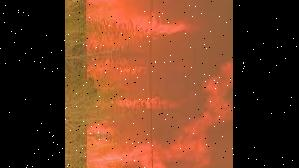fire: (83, 0, 232, 168)
